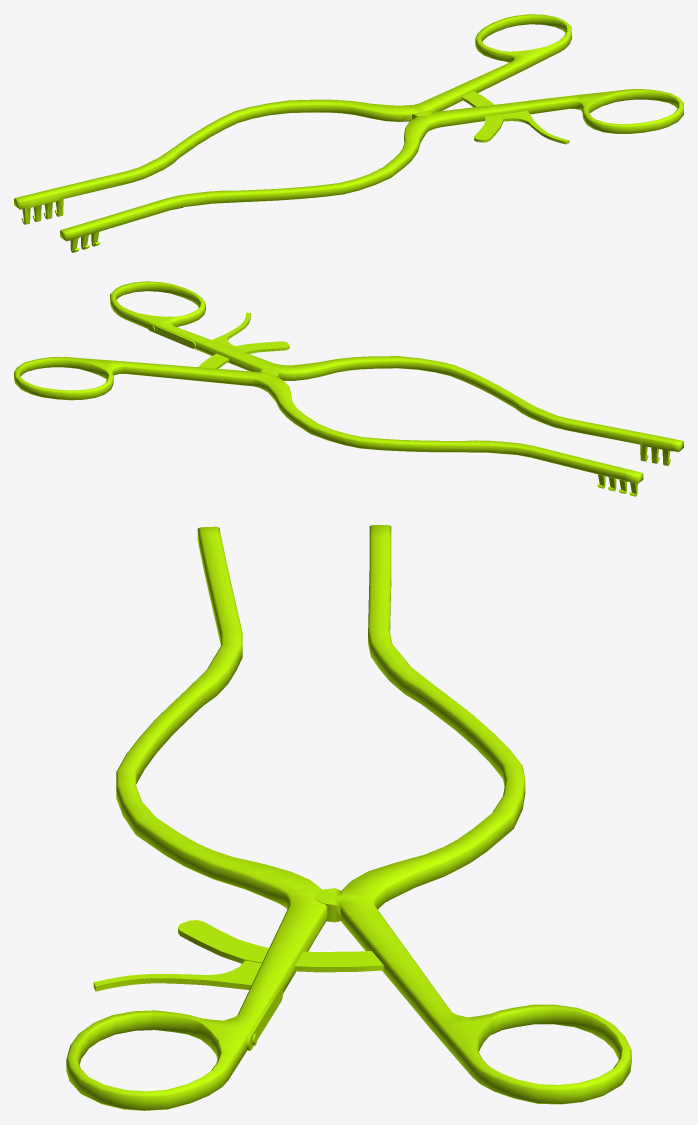
File: weitlaner retractor.FBX
3 views of the same model, one above another, from view 1: azimuth 30°, elevation 25°; view 2: azimuth 150°, elevation 25°; view 3: azimuth 270°, elevation 25° (orthographic). The views are drawn at different scales.
Parts seen in each view (by area): view 1: weitlaner retractor; view 2: weitlaner retractor; view 3: weitlaner retractor.
Part boxes in pixels (x1,y1,x2,y2): weitlaner retractor: (14, 14, 683, 252); weitlaner retractor: (14, 281, 683, 496); weitlaner retractor: (66, 525, 631, 1110).
Bounding box in the file's own units: 5.51 × 0.2235 × 2.3.
